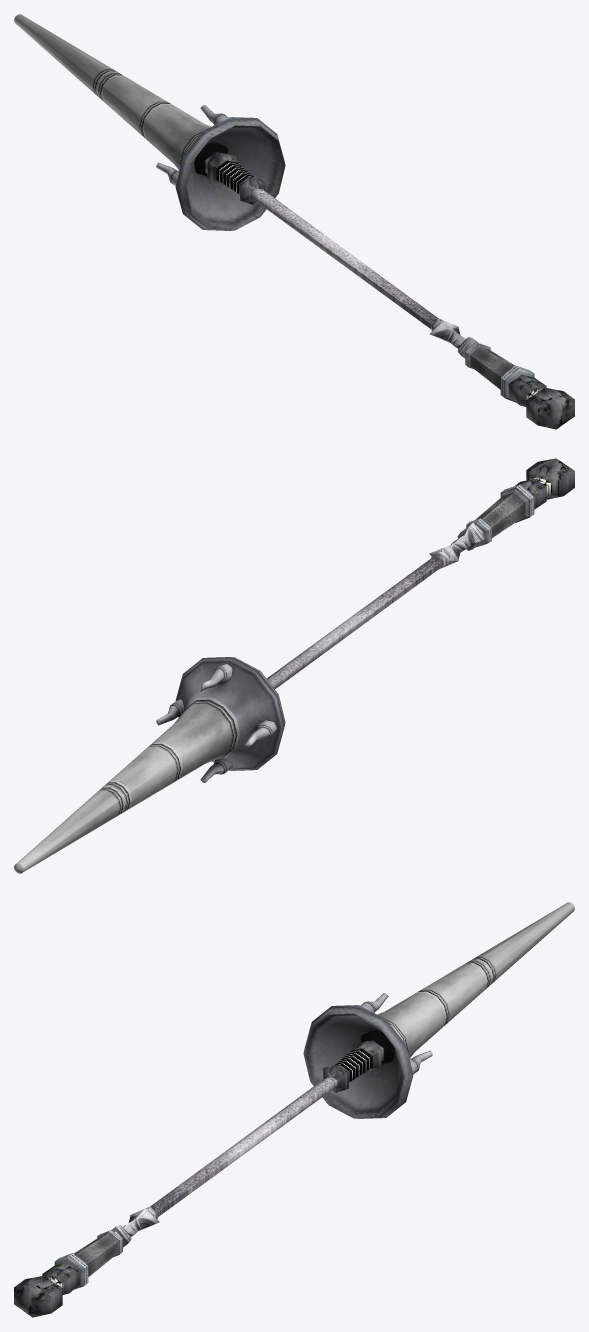
File: spear__night_spear_knight_spear1.glb
3 renders of one model, top to bottom at view 1: azimuth 30°, elevation 25°; view 2: azimuth 150°, elevation 25°; view 3: azimuth 330°, elevation 25°, orthographic.
Bounding box in the file's own units: 0.3313 × 0.3313 × 2.86.
Materials: 1 (1 with a texture image).
